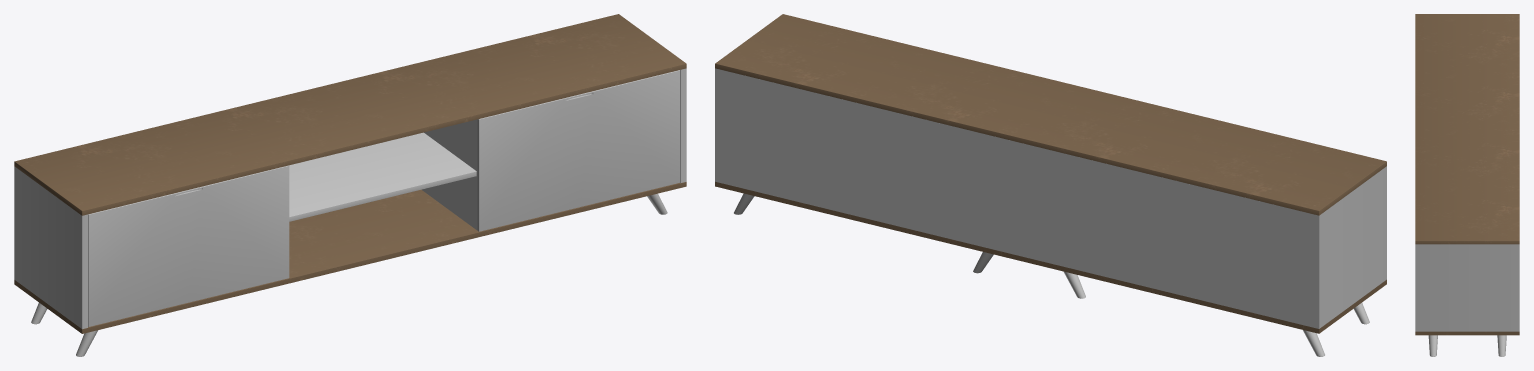
The model's file is tv_cabinet.fbx.
The picture shows the model from 3 angles, left to right: view 1: azimuth 30°, elevation 25°; view 2: azimuth 150°, elevation 25°; view 3: azimuth 270°, elevation 25°; orthographic projection. The views are drawn at different scales.
Visible parts, largest first — view 1: Top, door1, door2, Down, mid_wood, left_wood, mid_right_wood, right_wood; view 2: back, Top, left_wood, Down; view 3: Top, right_wood, back, Down, stand.003, stand.
Boxes of the visible parts, x1=… form: Top: x1=14, y1=14, x2=686, y2=215; door1: x1=476, y1=70, x2=679, y2=231; door2: x1=88, y1=165, x2=289, y2=326; Down: x1=14, y1=182, x2=686, y2=333; mid_wood: x1=289, y1=132, x2=476, y2=221; left_wood: x1=17, y1=169, x2=87, y2=329; mid_right_wood: x1=422, y1=119, x2=476, y2=229; right_wood: x1=680, y1=68, x2=686, y2=182; back: x1=715, y1=68, x2=1322, y2=328; Top: x1=715, y1=14, x2=1386, y2=215; left_wood: x1=1322, y1=166, x2=1386, y2=326; Down: x1=715, y1=181, x2=1386, y2=333; Top: x1=1415, y1=14, x2=1519, y2=244; right_wood: x1=1415, y1=244, x2=1514, y2=331; back: x1=1514, y1=244, x2=1519, y2=331; Down: x1=1415, y1=331, x2=1519, y2=335; stand.003: x1=1497, y1=335, x2=1506, y2=356; stand: x1=1428, y1=335, x2=1437, y2=356.
Size of the model in its own units: 180 by 44.12 by 35.
